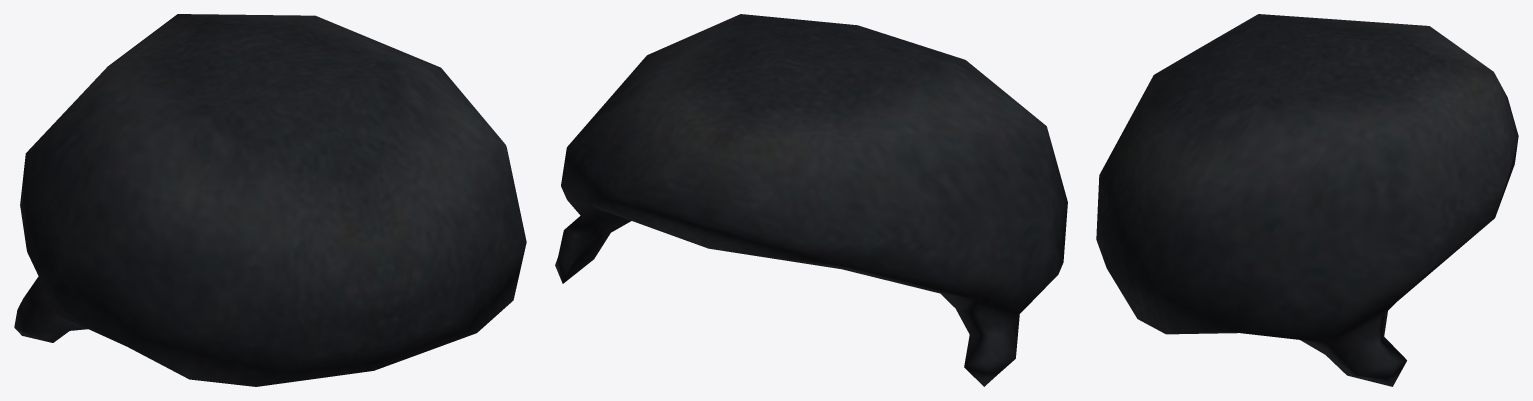
File: afro.glb
The picture shows the model from 3 angles, left to right: view 1: azimuth 30°, elevation 25°; view 2: azimuth 150°, elevation 25°; view 3: azimuth 270°, elevation 25°; orthographic projection. The views are drawn at different scales.
Visible parts, largest first — view 1: afro; view 2: afro; view 3: afro.
Boxes of the visible parts, bbox=[...] form: afro: bbox=[14, 14, 526, 386]; afro: bbox=[555, 14, 1067, 386]; afro: bbox=[1096, 14, 1518, 386].
Bounding box in the file's own units: 1.72 × 0.9354 × 1.47.
Materials: 1 (1 with a texture image).
